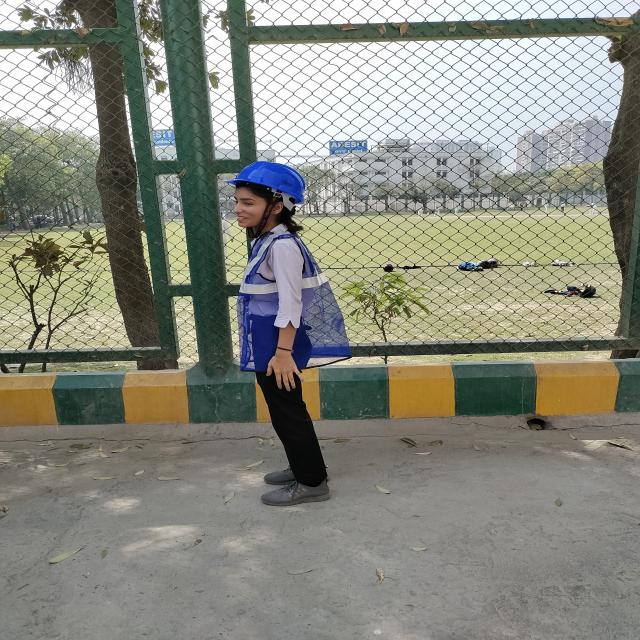safe: (225, 161, 352, 504)
